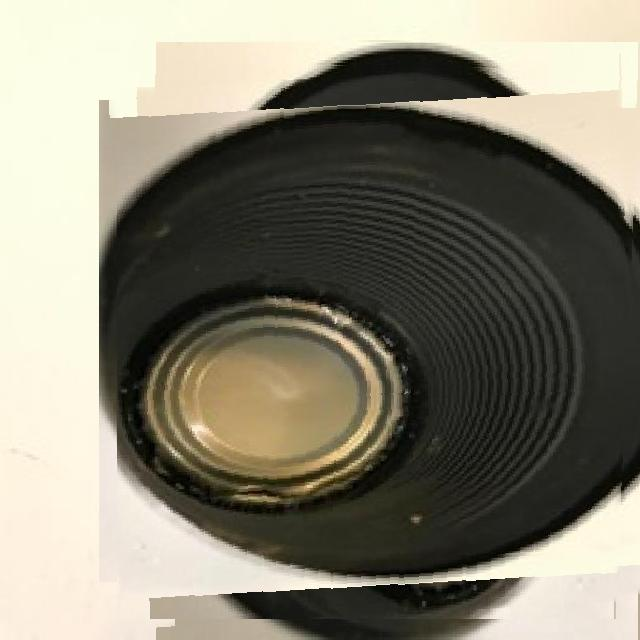recyclable: (117, 62, 640, 619)
